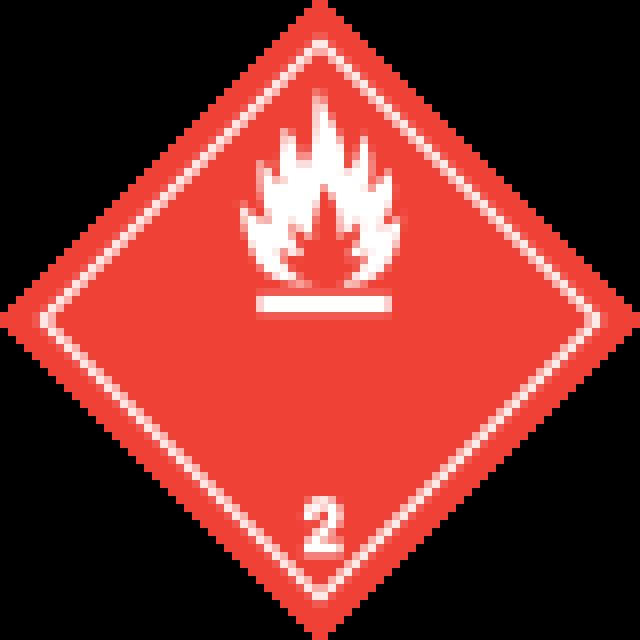Division 2-1: (8, 8, 640, 640)
